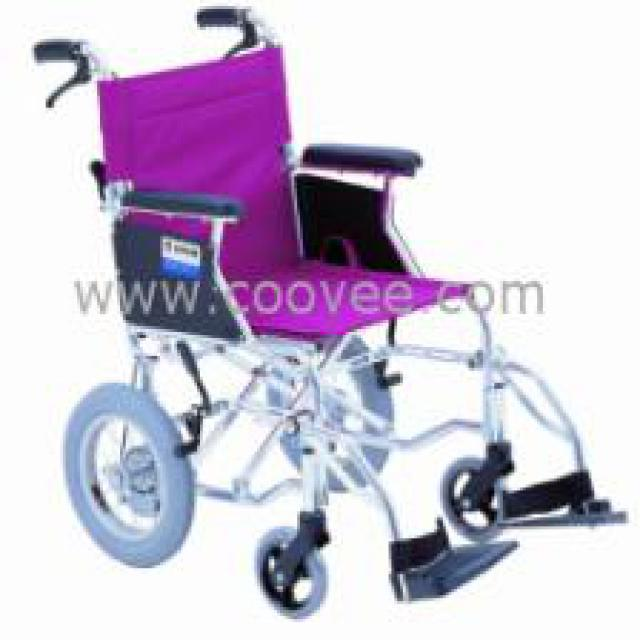wheelchairs: (24, 4, 632, 614)
